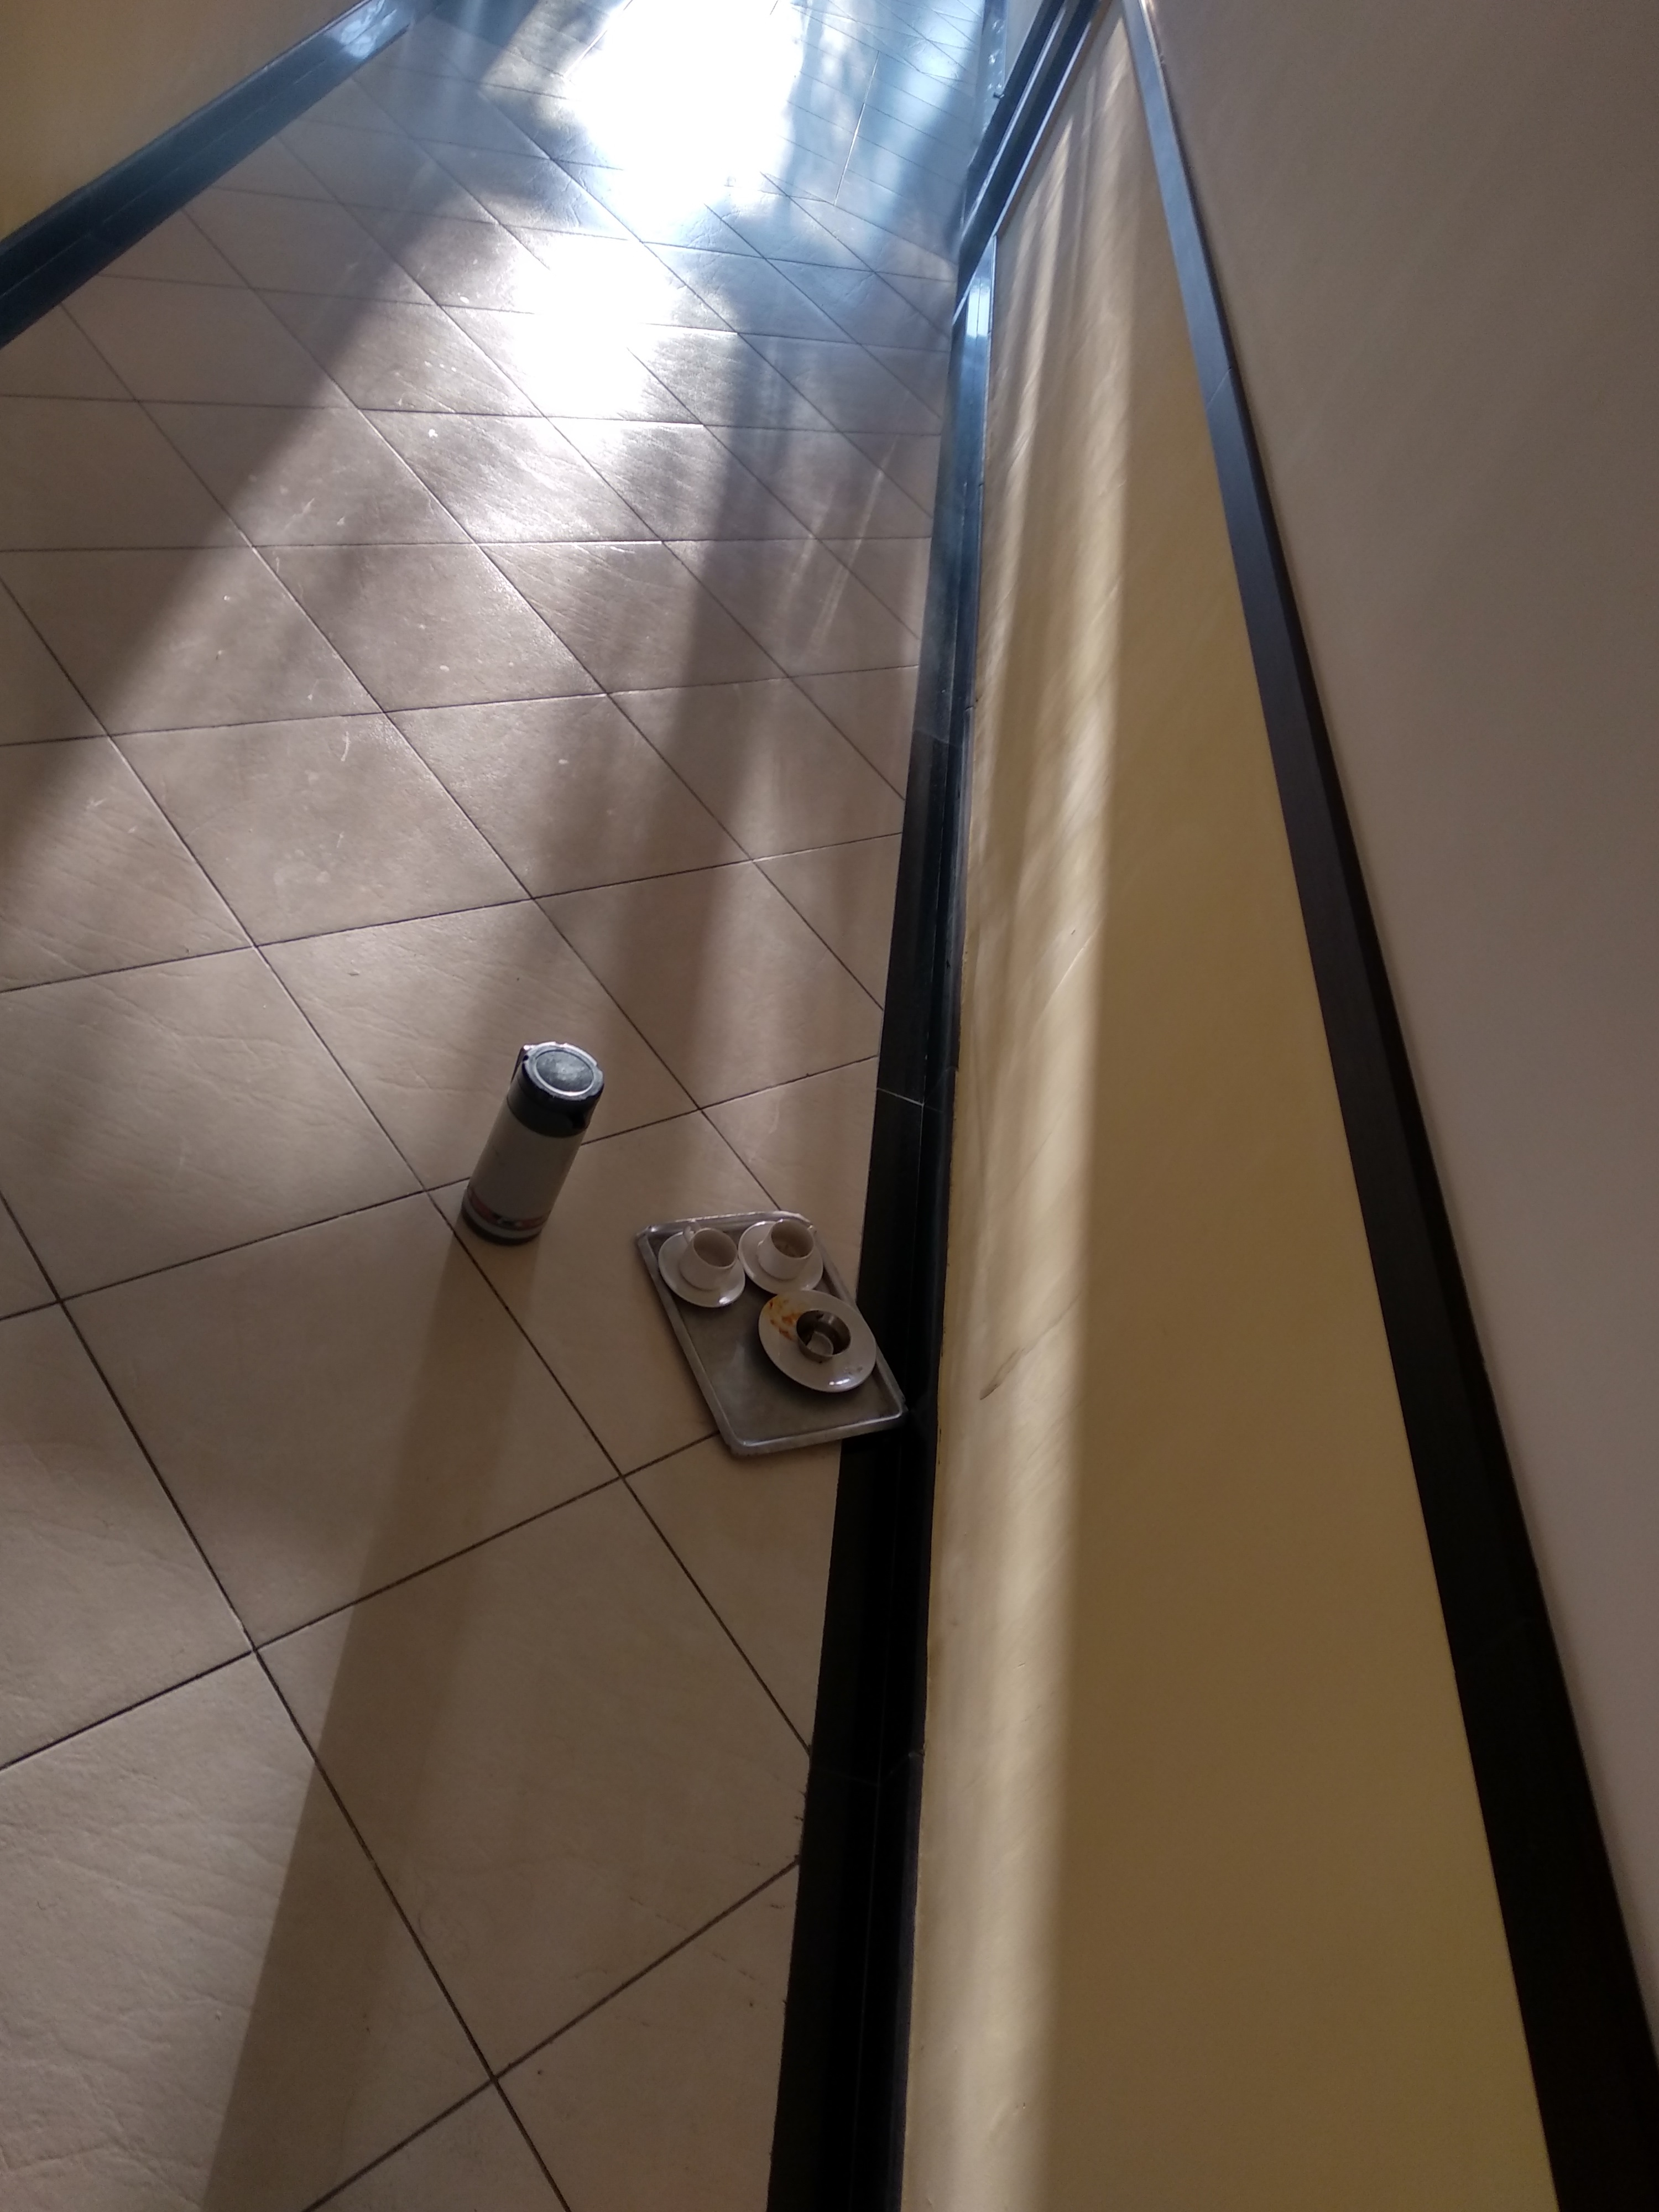CUP: (655, 1214, 749, 1312), (744, 1212, 828, 1287), (795, 1310, 854, 1359)
JUG: (462, 1040, 594, 1254)
